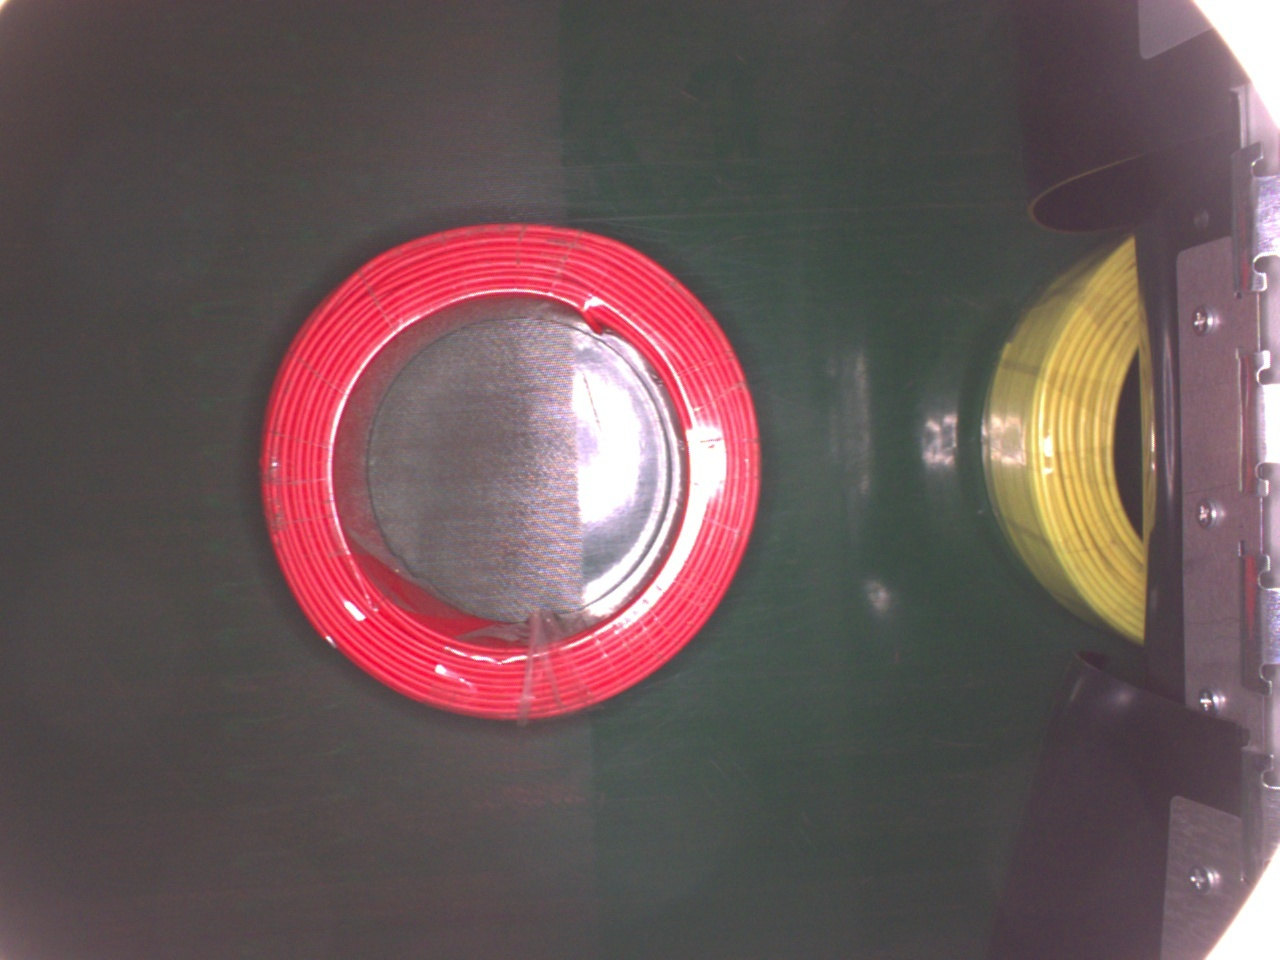red: (258, 213, 763, 725)
yellow: (973, 232, 1157, 651)
